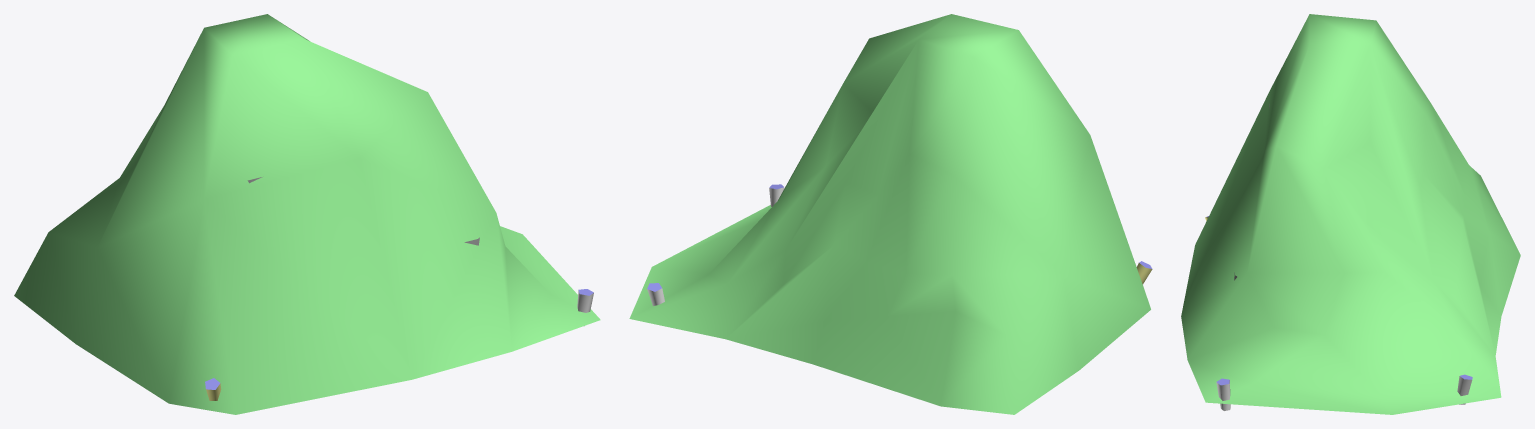
File: PriMT_port_drum_set.gltf
The picture shows the model from 3 angles, left to right: view 1: azimuth 30°, elevation 25°; view 2: azimuth 150°, elevation 25°; view 3: azimuth 270°, elevation 25°; orthographic projection. The views are drawn at different scales.
Visible parts, largest first — view 1: PriMT_port_drum_set; view 2: PriMT_port_drum_set; view 3: PriMT_port_drum_set.
Boxes of the visible parts, box(x1,y1,x2,y2) form: PriMT_port_drum_set: box(14, 14, 600, 414); PriMT_port_drum_set: box(629, 14, 1152, 414); PriMT_port_drum_set: box(1181, 14, 1520, 414).
Size of the model in its own units: 1.18 by 0.7762 by 0.8931.
